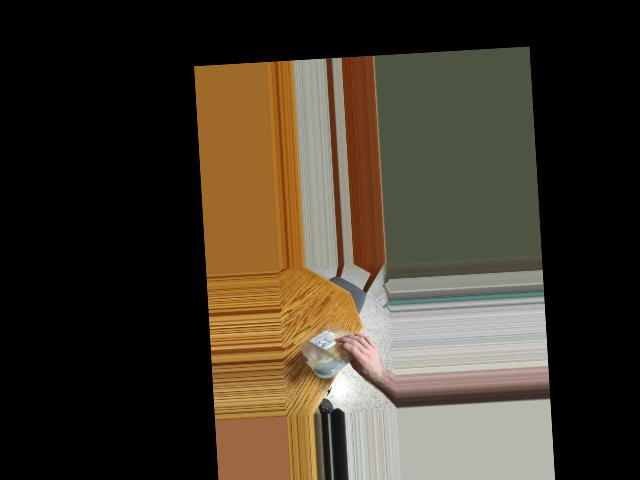cheese: (298, 322, 366, 378)
